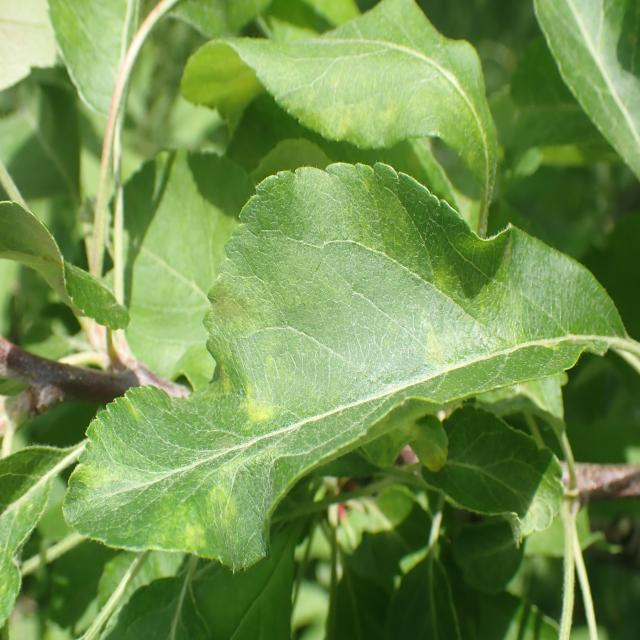scab: (109, 219, 502, 559)
